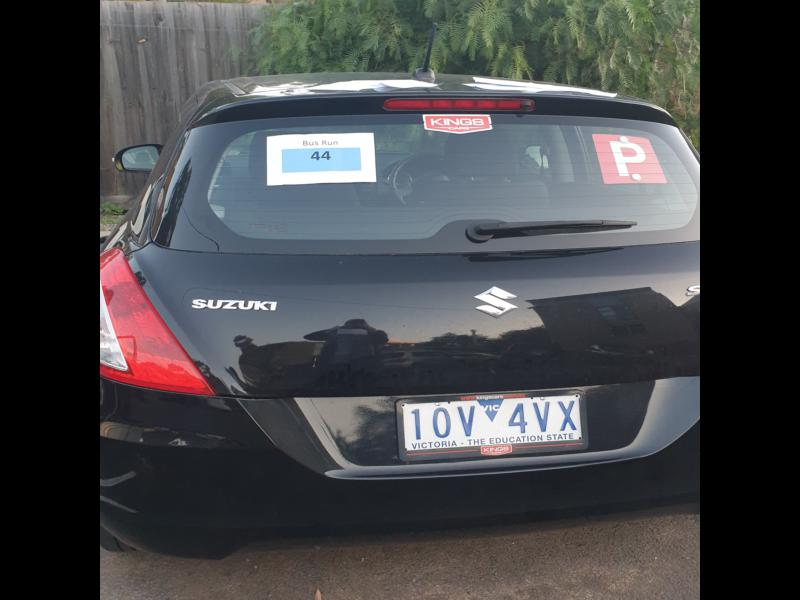BusRun: (281, 146, 363, 173)
PlateNo: (399, 390, 584, 456)
